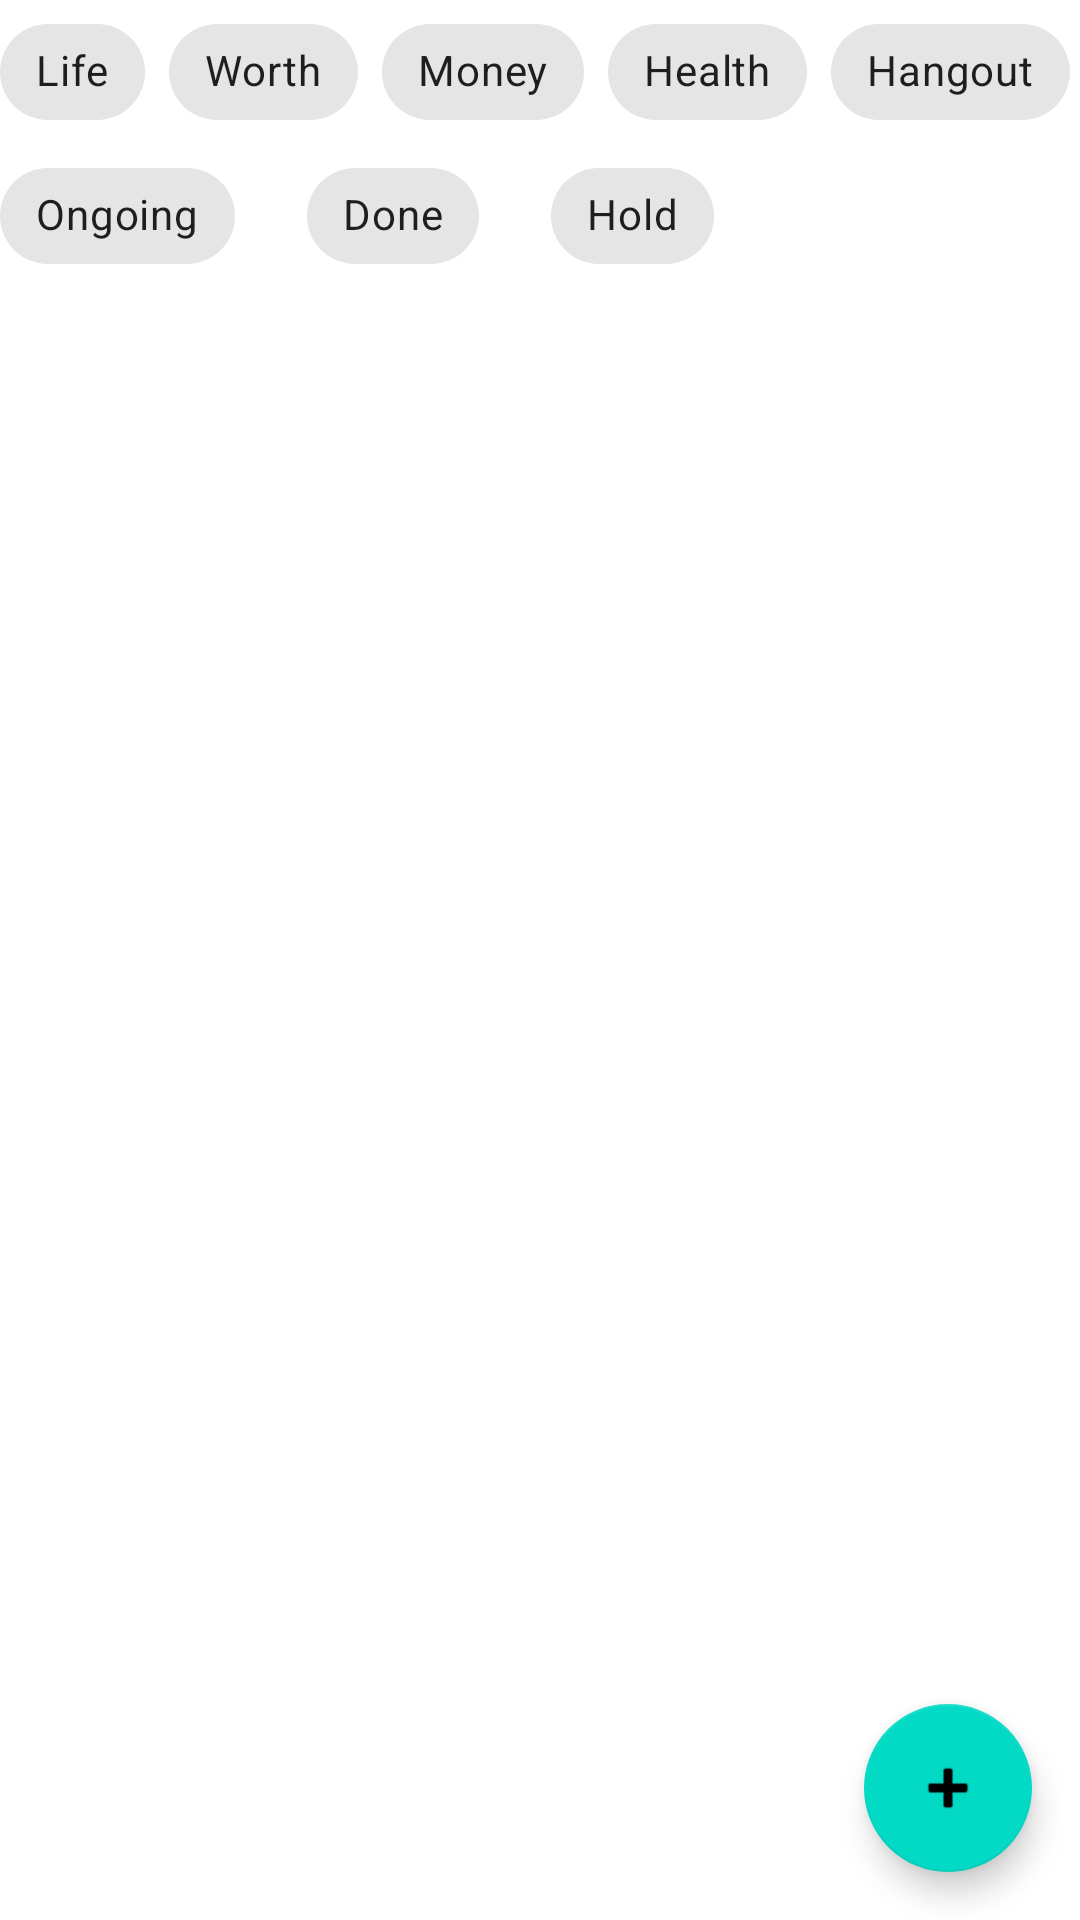

Where icons sit on this 1080*1920 app screen, as (x1, y1, x2, y2):
add project: (864, 1704, 1032, 1872)
